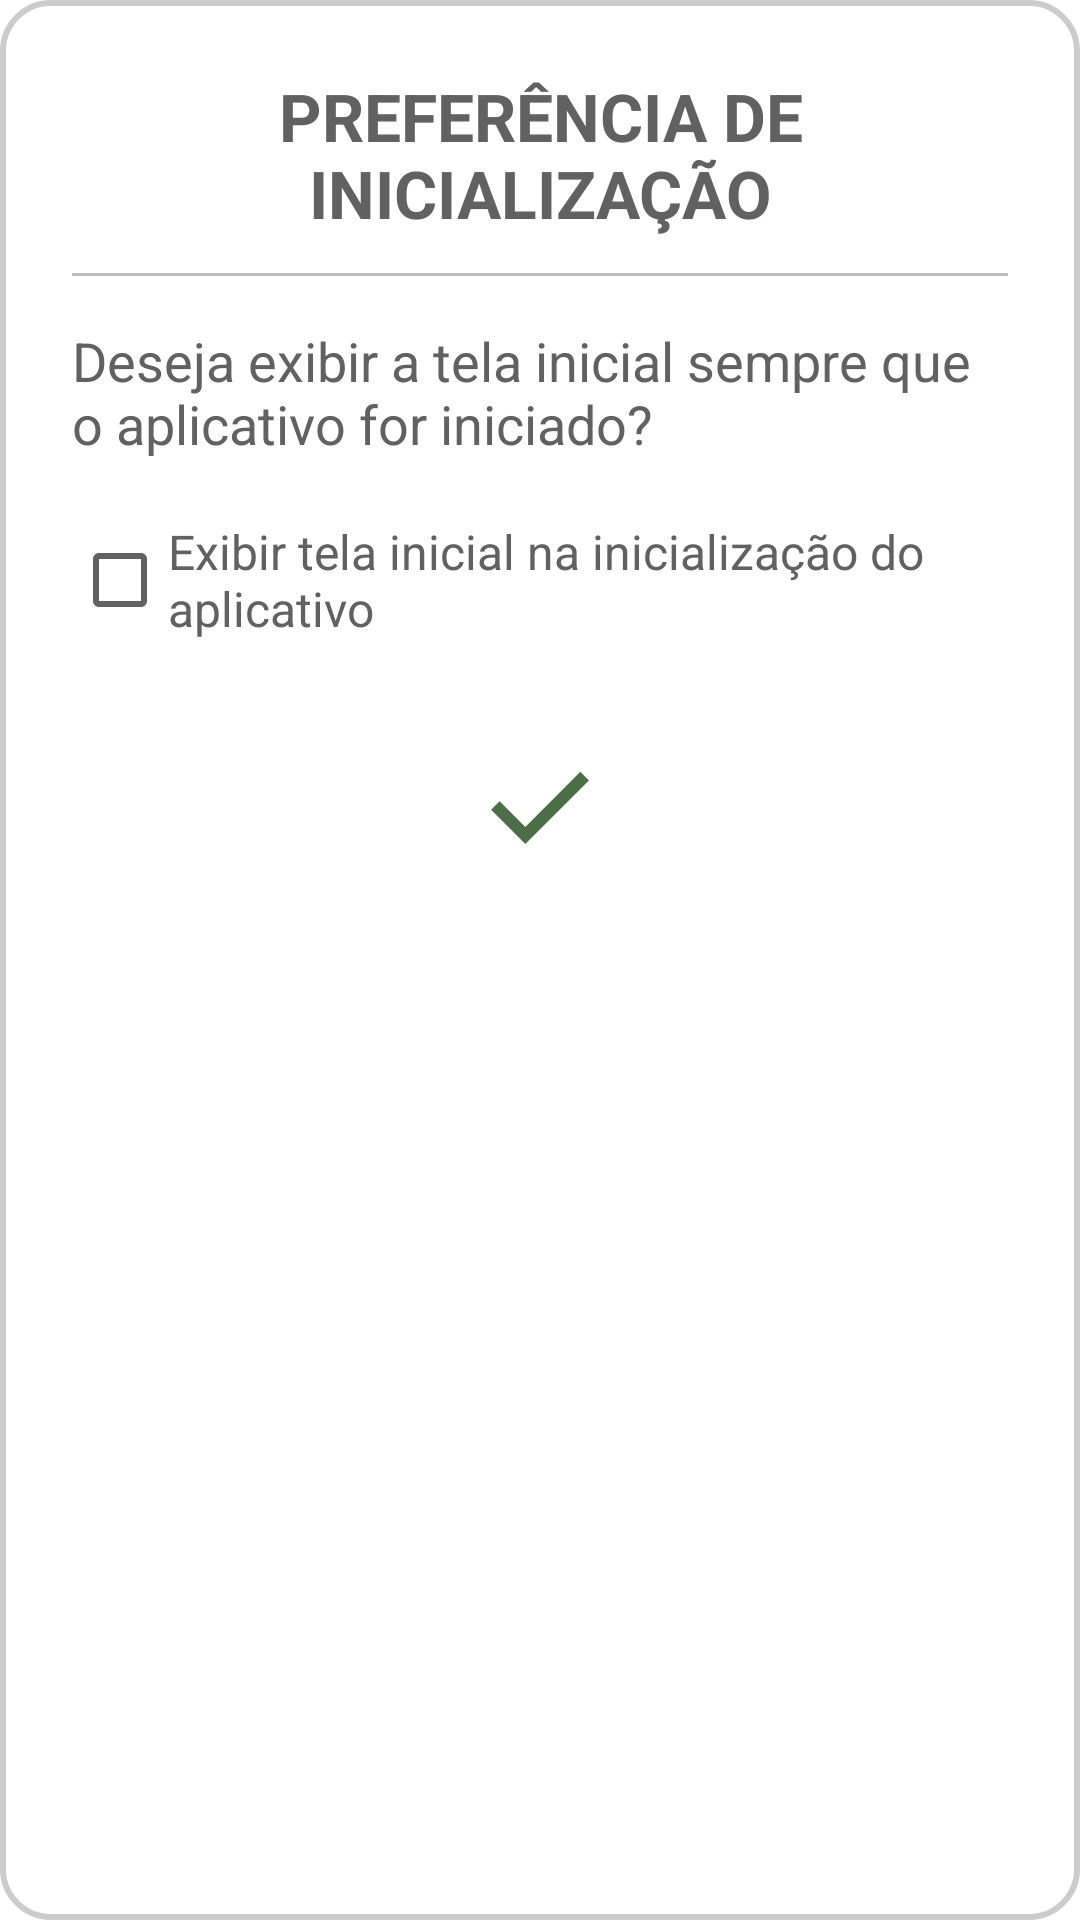

Icons on this 1080px×1920px Android screen, each with the point to tap as point (x, y):
Salvar escolha: point (540, 808)
